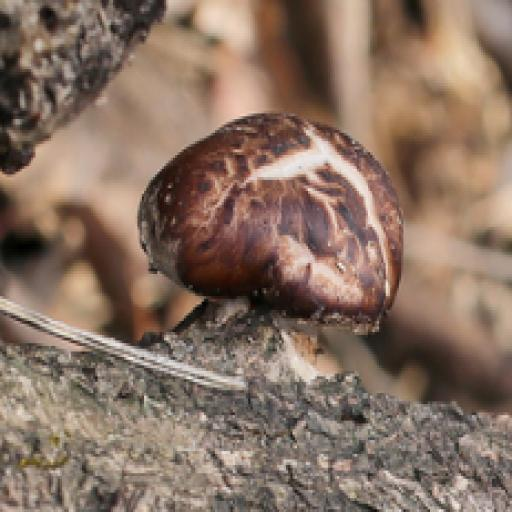Shiitake Mushroom: (134, 103, 419, 341)
